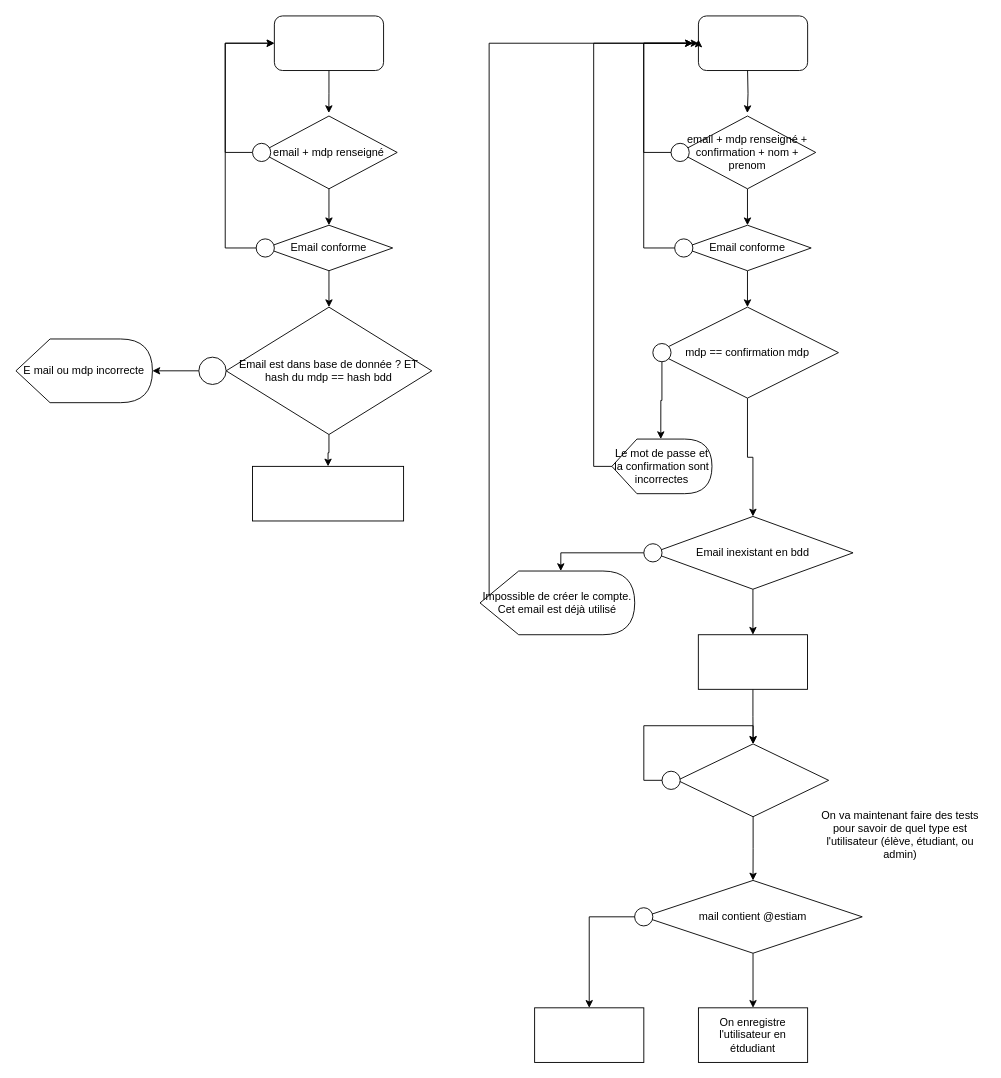
The diagram is 1001 pixels wide and 1078 high, and some of its shapes have lost their labels. Each missing label, with the centre of its shape:
Accès à la page tchat étudiant: (328,493)
Code confirmation correcte: (753,780)
Début (page connexion): (328,43)
Début (page inscritption): (753,43)
Envoie code confirmation par mail valide pendant 5min: (752,661)
On enregistre l'utilisateur en tant qu'élève: (589,1034)
